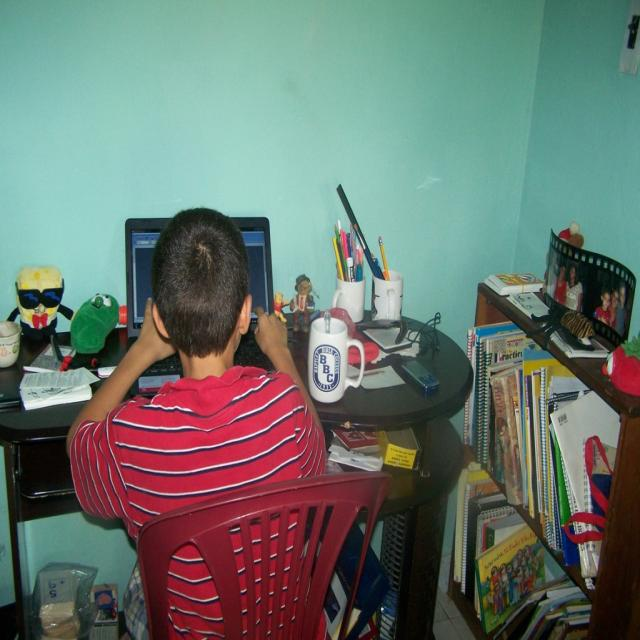chair: (136, 465, 391, 637)
desk: (9, 300, 511, 640)
person: (68, 210, 328, 633)
